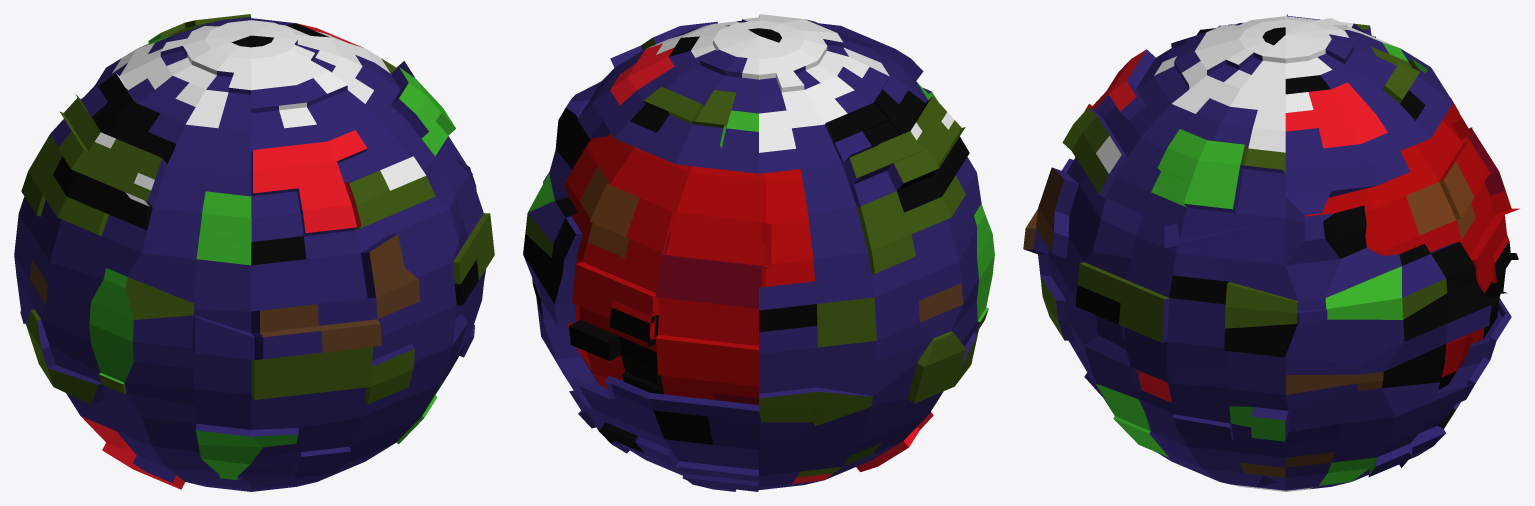
File: planetphase3.fbx
3 renders of one model, left to right at view 1: azimuth 30°, elevation 25°; view 2: azimuth 150°, elevation 25°; view 3: azimuth 270°, elevation 25°, orthographic.
Visible parts, largest first — view 1: Sphere; view 2: Sphere, Sphere.001; view 3: Sphere, Sphere.001.
Boxes of the visible parts, x1,y1,x2,y2 form: Sphere: (14,14,494,491); Sphere: (523,14,994,491); Sphere.001: (564,133,814,404); Sphere: (1023,14,1511,491); Sphere.001: (1304,98,1519,389).
Size of the model in its own units: 205 by 202 by 210.
